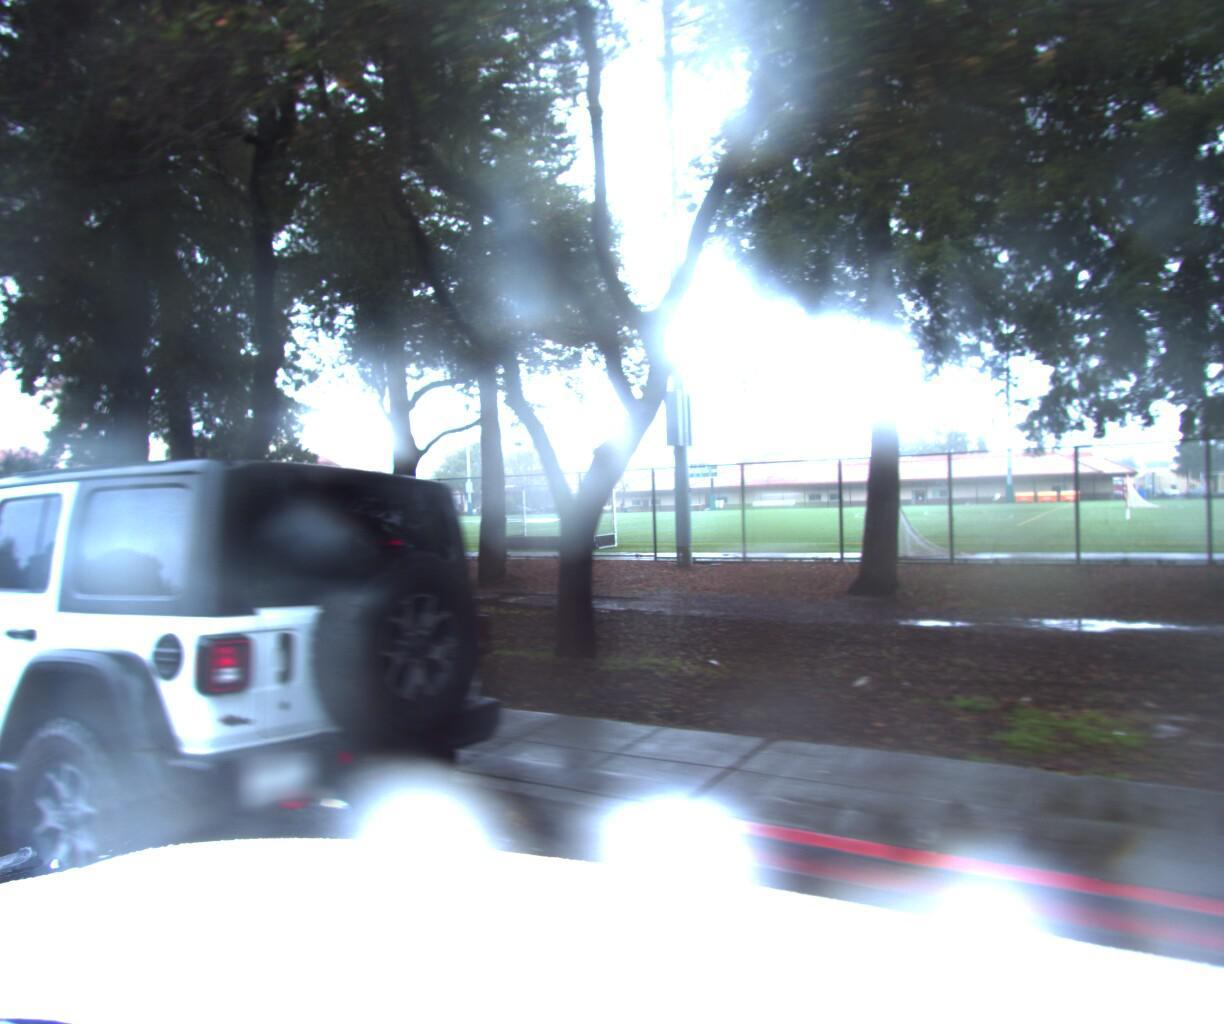car: (0, 454, 549, 1024)
